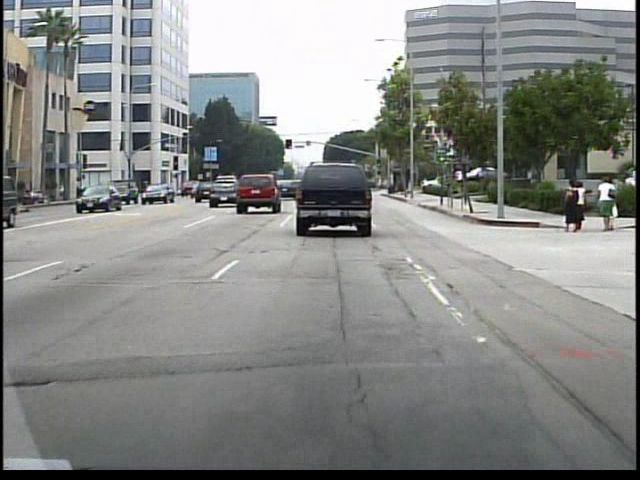person: (595, 174, 617, 233), (563, 176, 580, 235), (575, 180, 589, 231)
